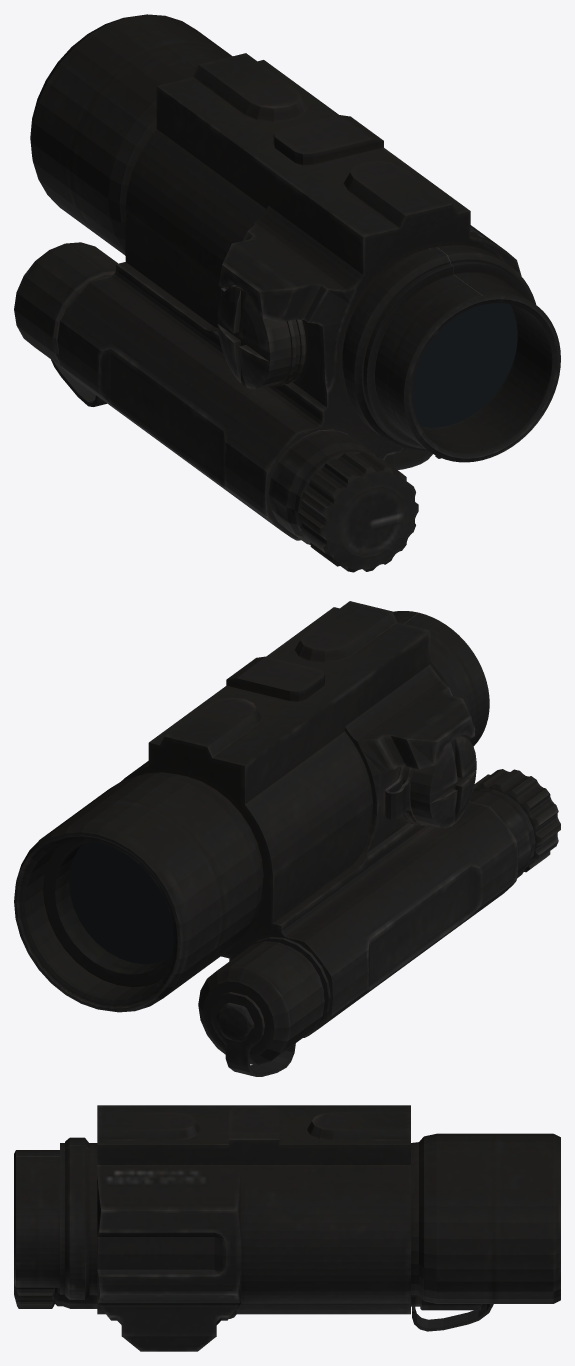
3 renders of one model, top to bottom at view 1: azimuth 30°, elevation 25°; view 2: azimuth 150°, elevation 25°; view 3: azimuth 270°, elevation 25°, orthographic. The views are drawn at different scales.
Parts seen in each view (by area): view 1: TW_5c7d55de2e221644f31bff68_PZ_Import; view 2: TW_5c7d55de2e221644f31bff68_PZ_Import; view 3: TW_5c7d55de2e221644f31bff68_PZ_Import.
Part boxes in pixels (x1,y1,x2,y2): TW_5c7d55de2e221644f31bff68_PZ_Import: [14, 14, 560, 572]; TW_5c7d55de2e221644f31bff68_PZ_Import: [14, 601, 560, 1076]; TW_5c7d55de2e221644f31bff68_PZ_Import: [14, 1105, 560, 1351].
Size of the model in its own units: 0.0298 by 0.0705 by 0.0351.
Materials: 1 (1 with a texture image).
